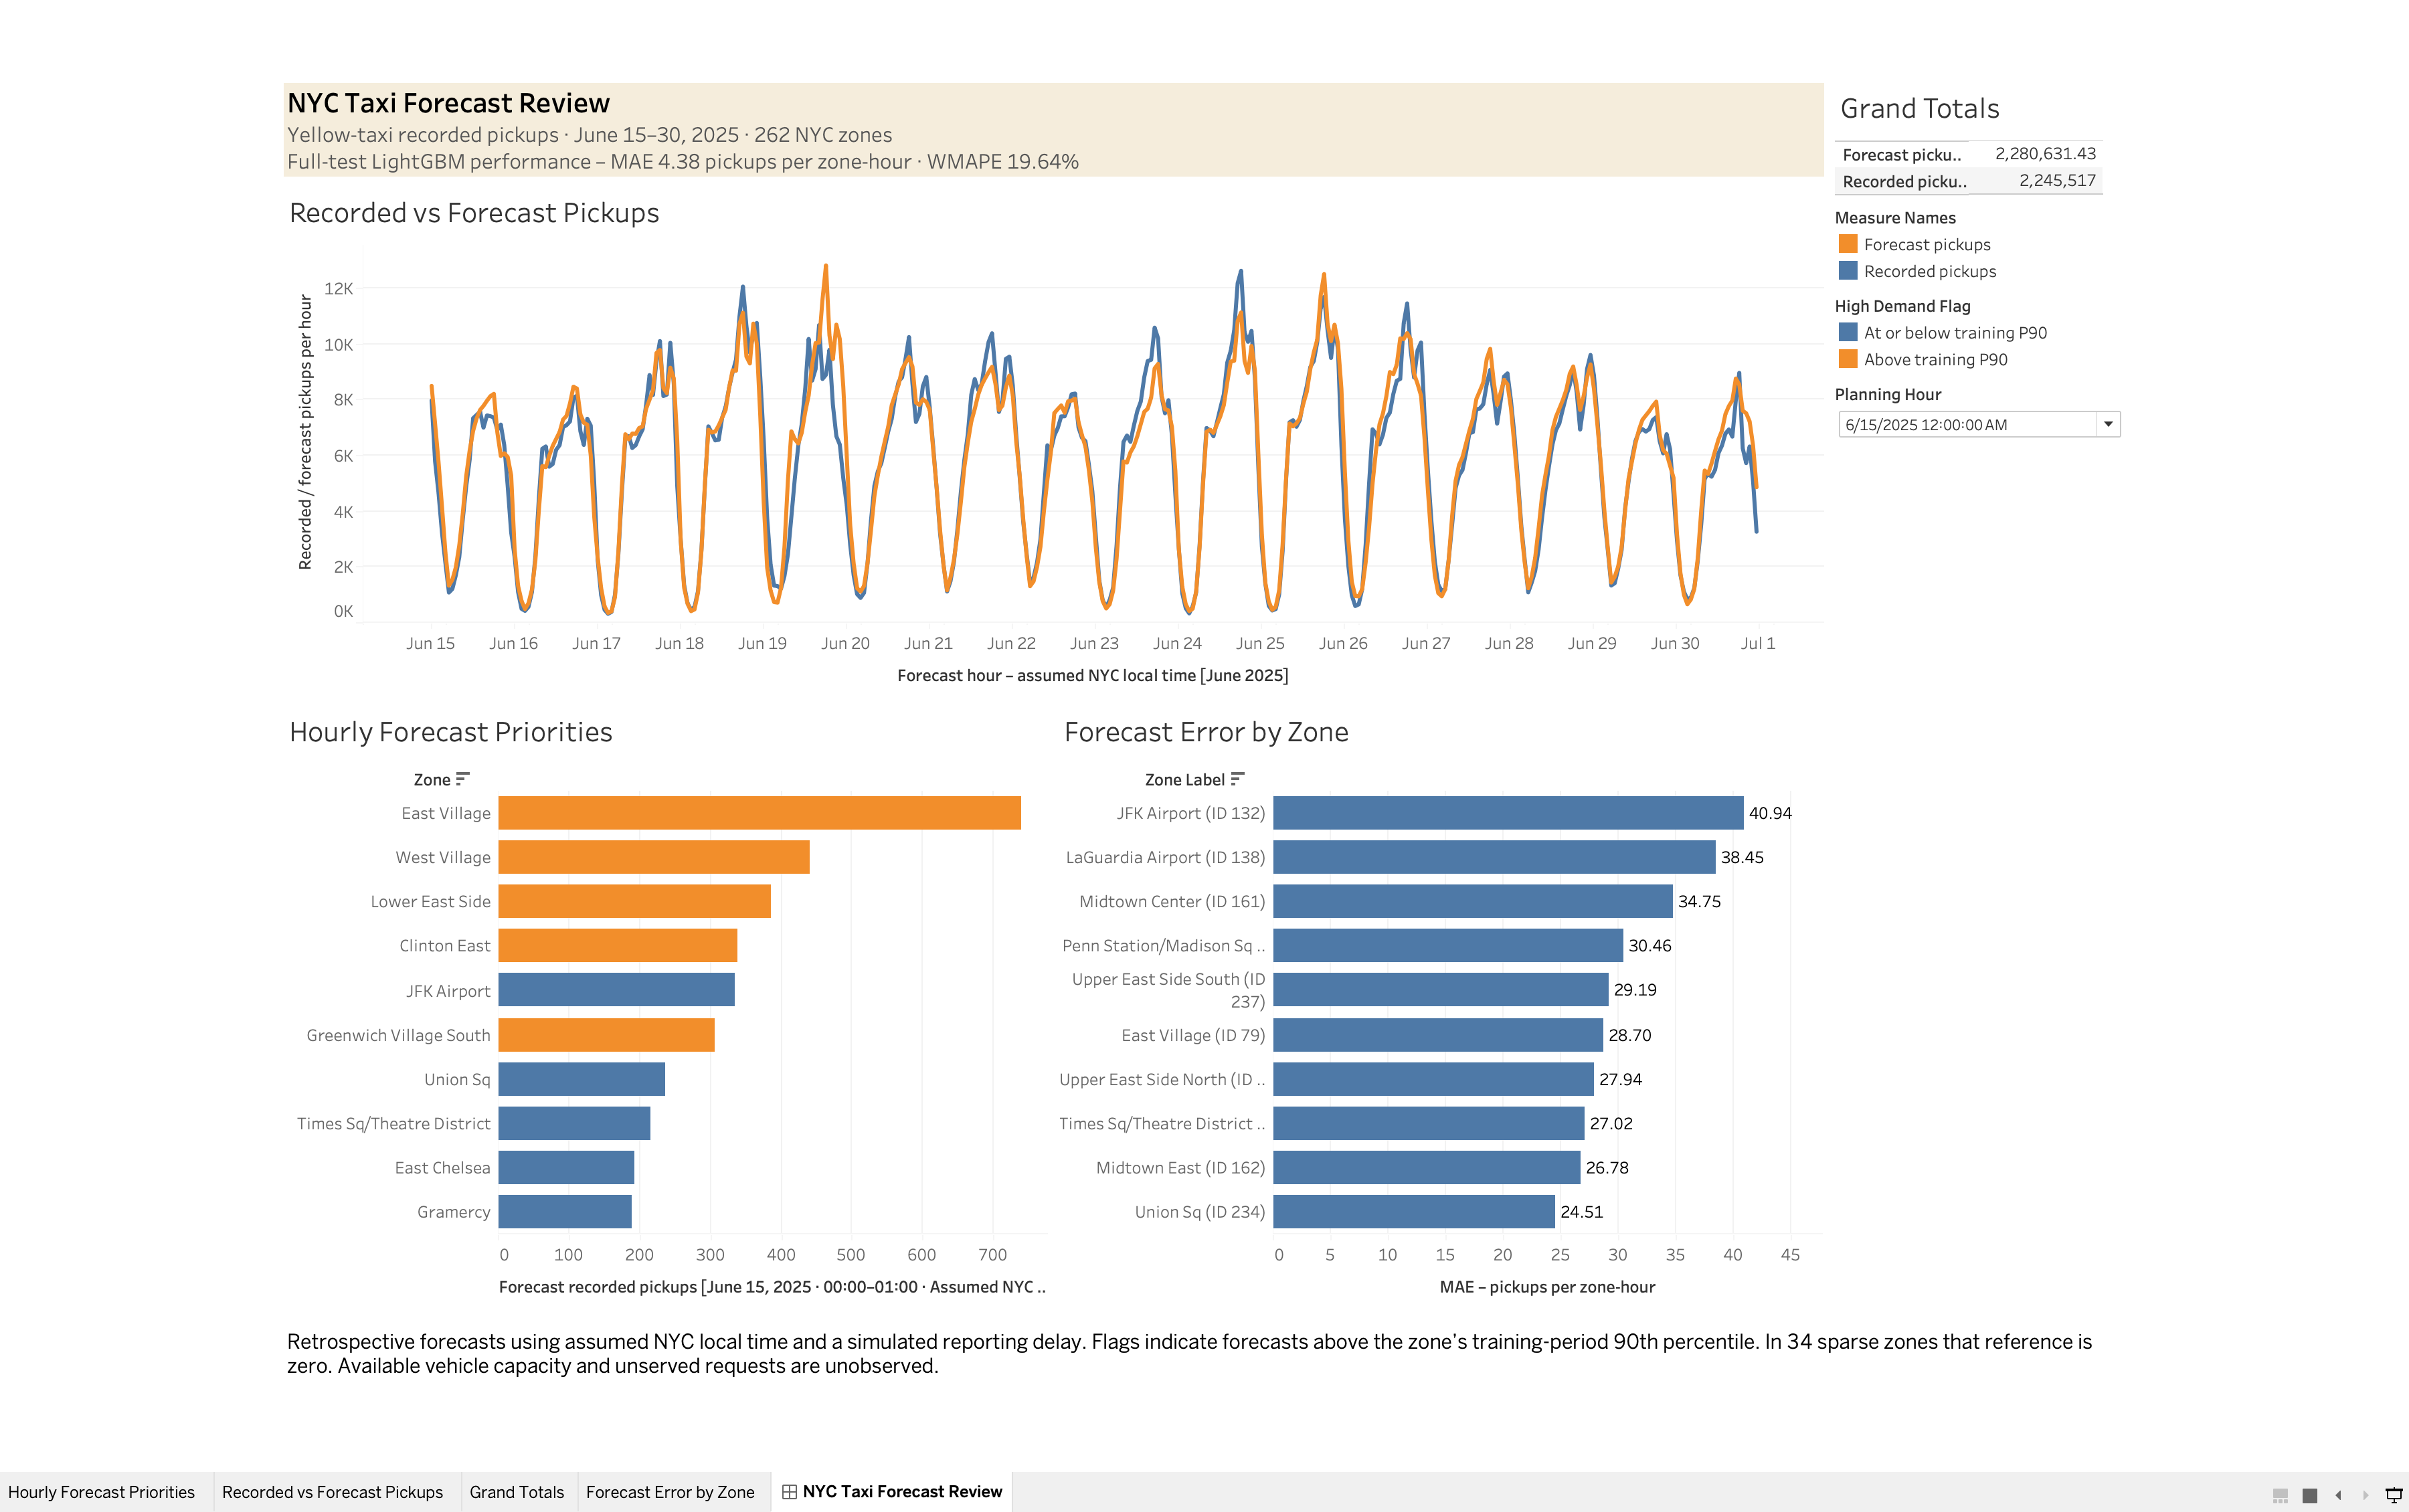

This screenshot's page, from the dashboard's own definition file:
{"tool":"tableau","page":{"name":"NYC Taxi Forecast Review","canvas":[1400,1000],"ordinal":0},"visuals":[{"type":"text","box":[8,8,1159,78]},{"type":"worksheet","title":"Grand Totals","mark":"Automatic","box":[1167,8,225,92]},{"type":"worksheet","title":"Recorded vs Forecast Pickups","mark":"Line","cols":["Calculation_0120599773372417"],"box":[8,86,1159,388]},{"type":"legend","title":"Recorded vs Forecast Pickups","param":"[federated.1470ej11xggwer14hkwf107q3xtm].[:Measure Names]","box":[1167,100,225,66]},{"type":"legend","title":"Hourly Forecast Priorities","param":"[federated.1470ej11xggwer14hkwf107q3xtm].[none:high_demand_flag:nk]","box":[1167,166,225,66]},{"type":"parameter","param":"[Parameters].[Parameter 0120600137785351]","box":[1167,232,225,52]},{"type":"worksheet","title":"Hourly Forecast Priorities","mark":"Bar","rows":["Zone"],"cols":["lightgbm"],"box":[8,474,579.5,457]},{"type":"worksheet","title":"Forecast Error by Zone","mark":"Bar","rows":["Calculation_0120600122978309"],"cols":["Calculation_0120600122925060"],"box":[587.5,474,579.5,457]},{"type":"text","box":[8,931,1384,61]}]}

Visuals, with their boxes on the page's 1400x1000 design canvas (x1, y1, x2, y2). These are canvas units, not pixel positions in the 2409x1512 screenshot, which may show the page scaled, cropped or inside an application window:
text: select_region(8, 8, 1167, 86)
"Grand Totals" worksheet: select_region(1167, 8, 1392, 100)
"Recorded vs Forecast Pickups" worksheet (Line marks): select_region(8, 86, 1167, 474)
"Recorded vs Forecast Pickups" legend: select_region(1167, 100, 1392, 166)
"Hourly Forecast Priorities" legend: select_region(1167, 166, 1392, 232)
parameter: select_region(1167, 232, 1392, 284)
"Hourly Forecast Priorities" worksheet (Bar marks): select_region(8, 474, 588, 931)
"Forecast Error by Zone" worksheet (Bar marks): select_region(588, 474, 1167, 931)
text: select_region(8, 931, 1392, 992)
